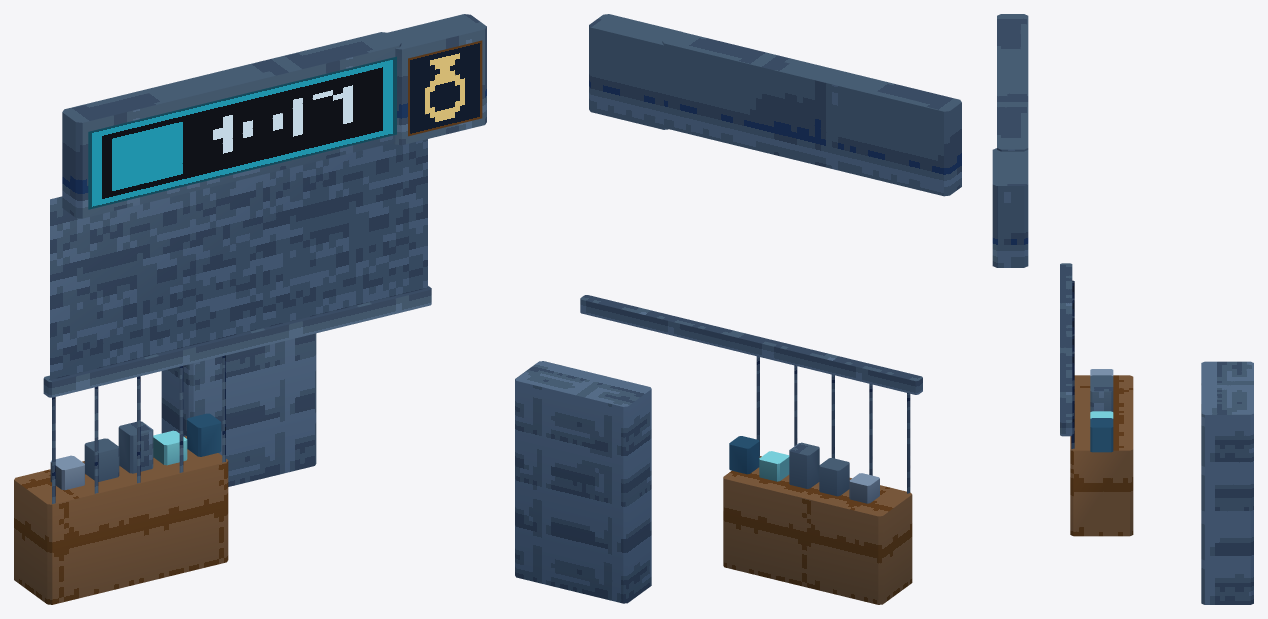
File: cysign.pawn.glb
The picture shows the model from 3 angles, left to right: view 1: azimuth 30°, elevation 25°; view 2: azimuth 150°, elevation 25°; view 3: azimuth 270°, elevation 25°; orthographic projection. The views are drawn at different scales.
Visible parts, largest first — view 1: kit_card_cards, kit_front, kit_bars; view 2: kit_front, kit_bars; view 3: kit_front, kit_bars.
Part boxes in pixels (x1,y1,x2,y2): kit_card_cards: [50, 40, 482, 380]; kit_front: [14, 14, 486, 604]; kit_bars: [52, 355, 225, 503]; kit_front: [515, 14, 961, 604]; kit_bars: [756, 356, 910, 493]; kit_front: [992, 14, 1253, 604]; kit_bars: [1071, 280, 1074, 448].
Size of the model in its own units: 3.84 by 4.64 by 2.52.
Materials: 12 (10 with a texture image).
